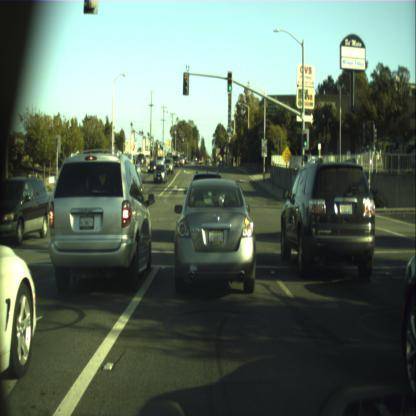Green: (228, 70, 233, 92), (302, 132, 306, 146)
RedLeft: (183, 71, 188, 95)
